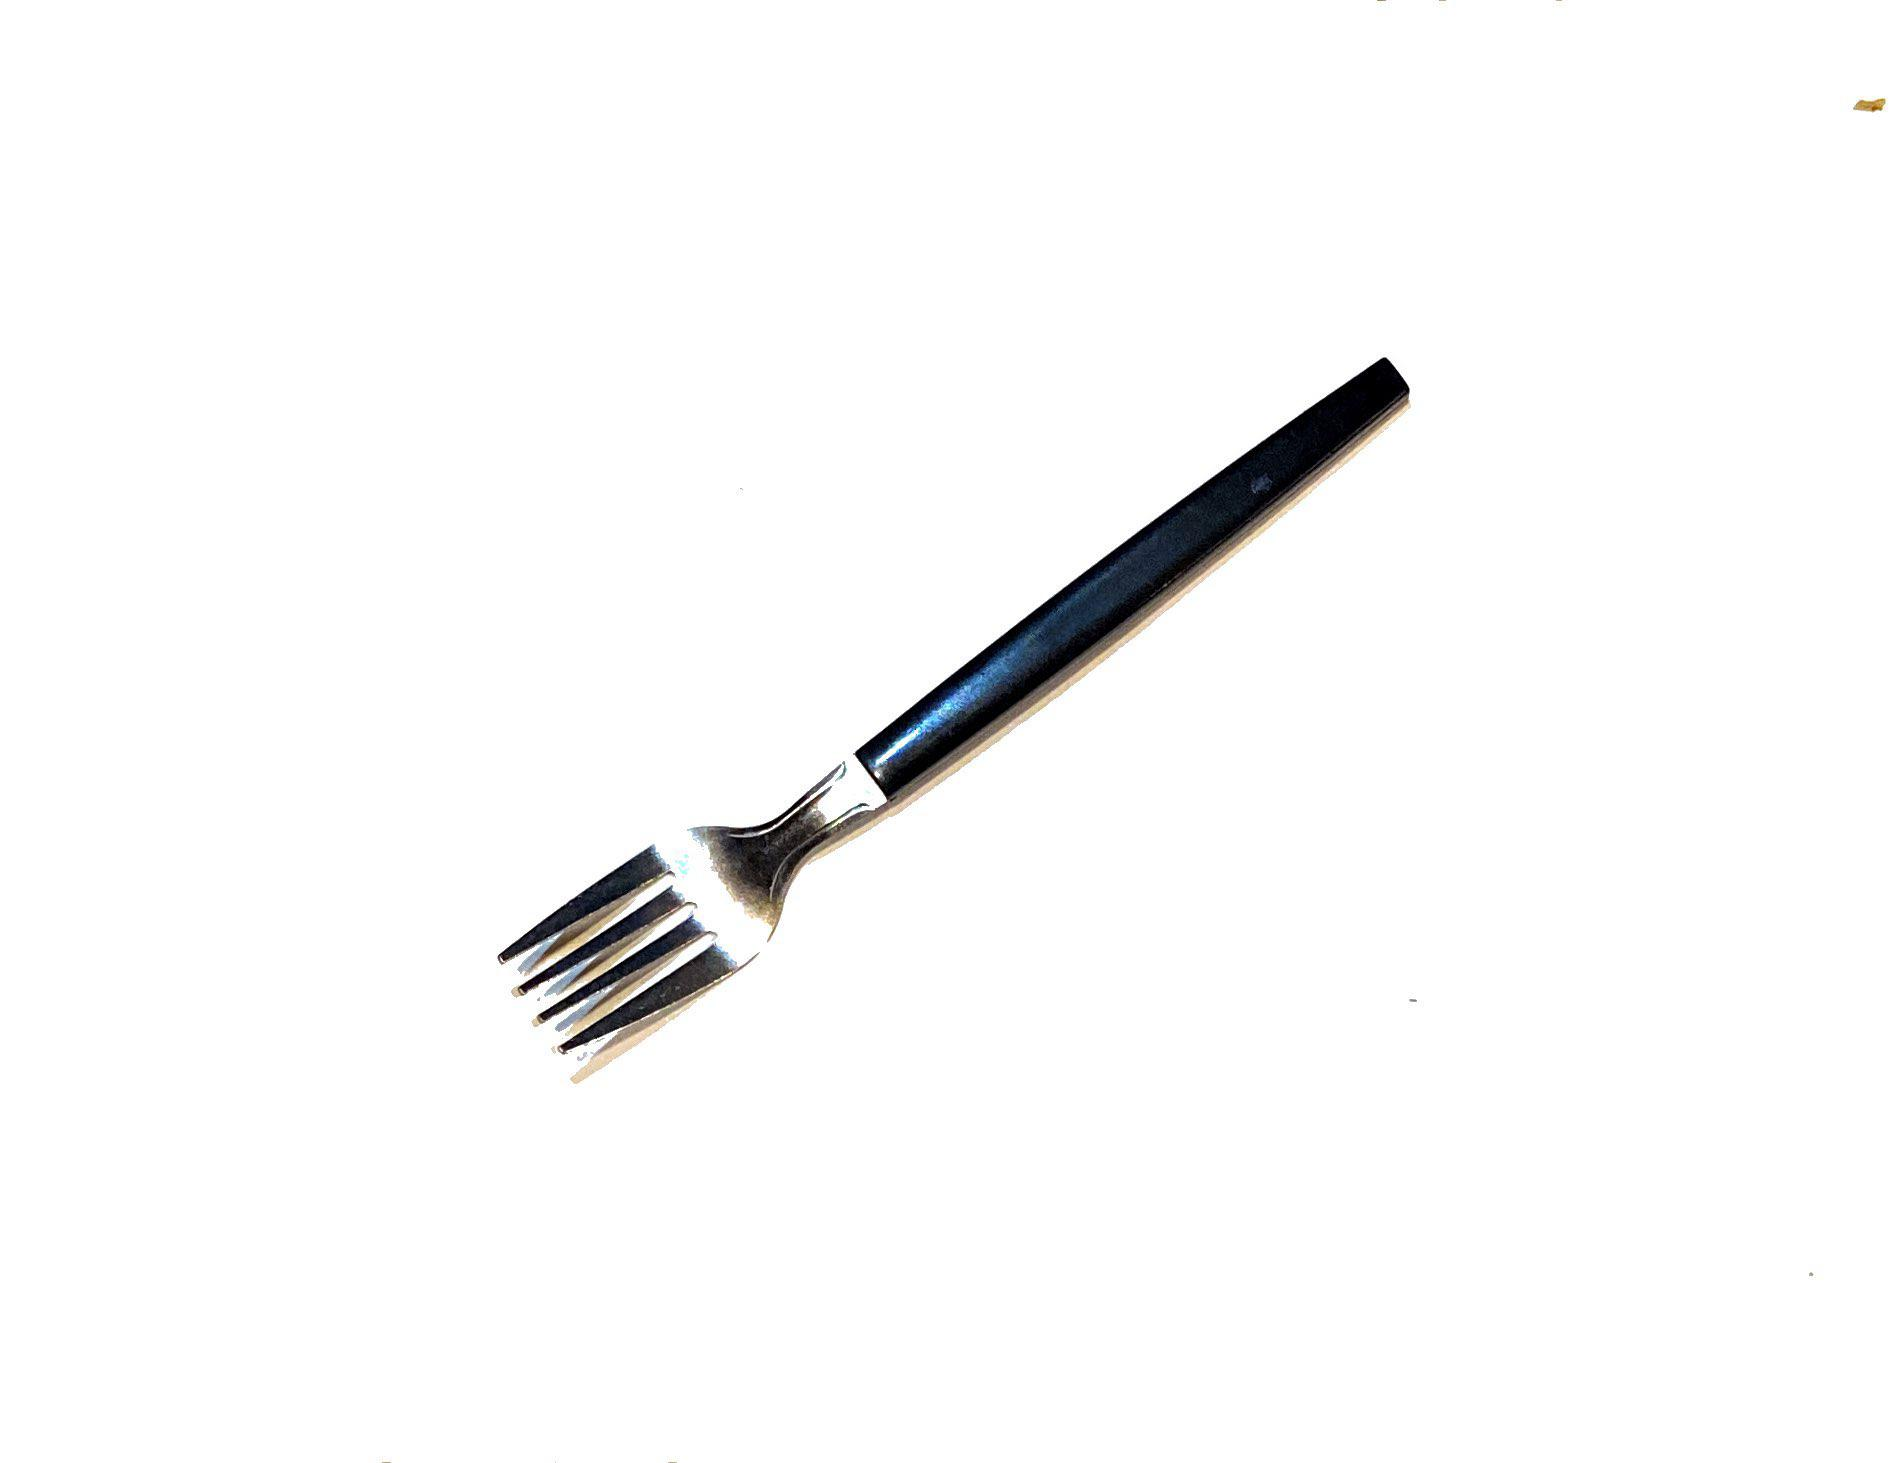Fork: (486, 297, 1503, 1146)
